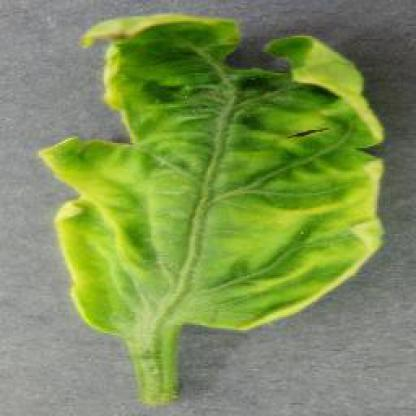bad leaf: (39, 144, 174, 324), (262, 141, 392, 286), (95, 22, 228, 133), (284, 35, 383, 150)
